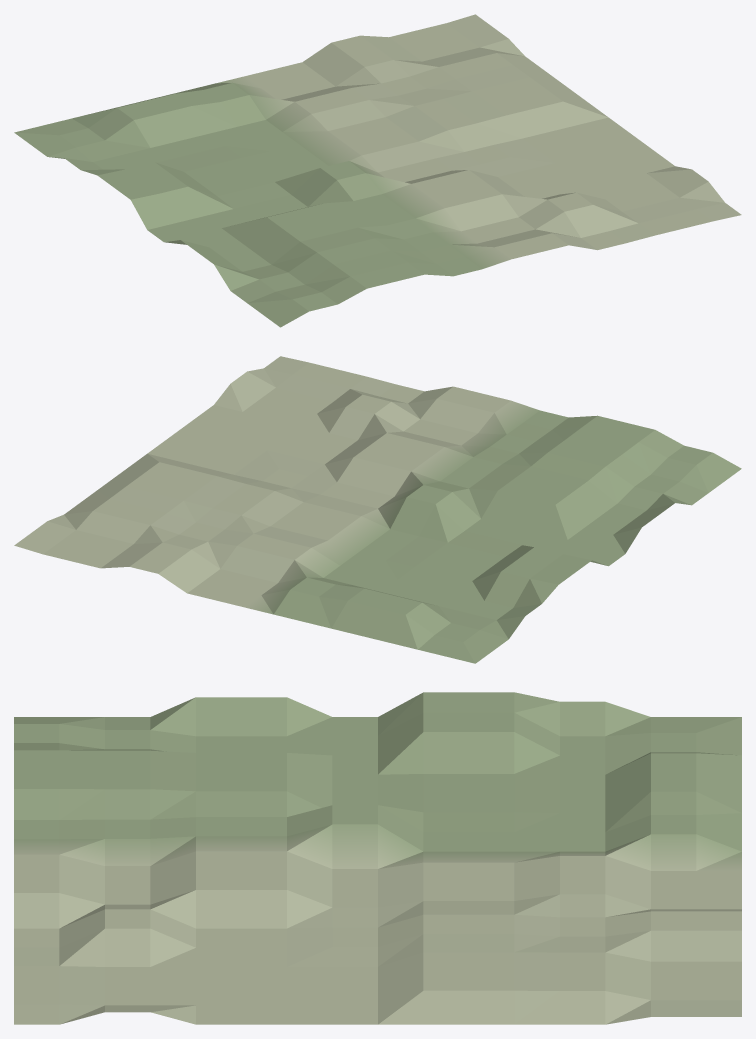
The picture shows the model from 3 angles, top to bottom: view 1: azimuth 30°, elevation 25°; view 2: azimuth 150°, elevation 25°; view 3: azimuth 270°, elevation 25°; orthographic projection. The views are drawn at different scales.
Size of the model in its own units: 32 by 1.32 by 32.
